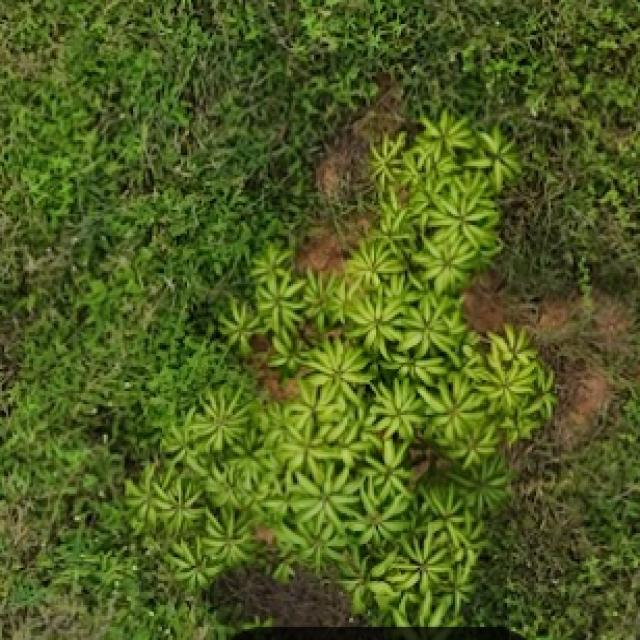mangoTree: (120, 105, 561, 640)
